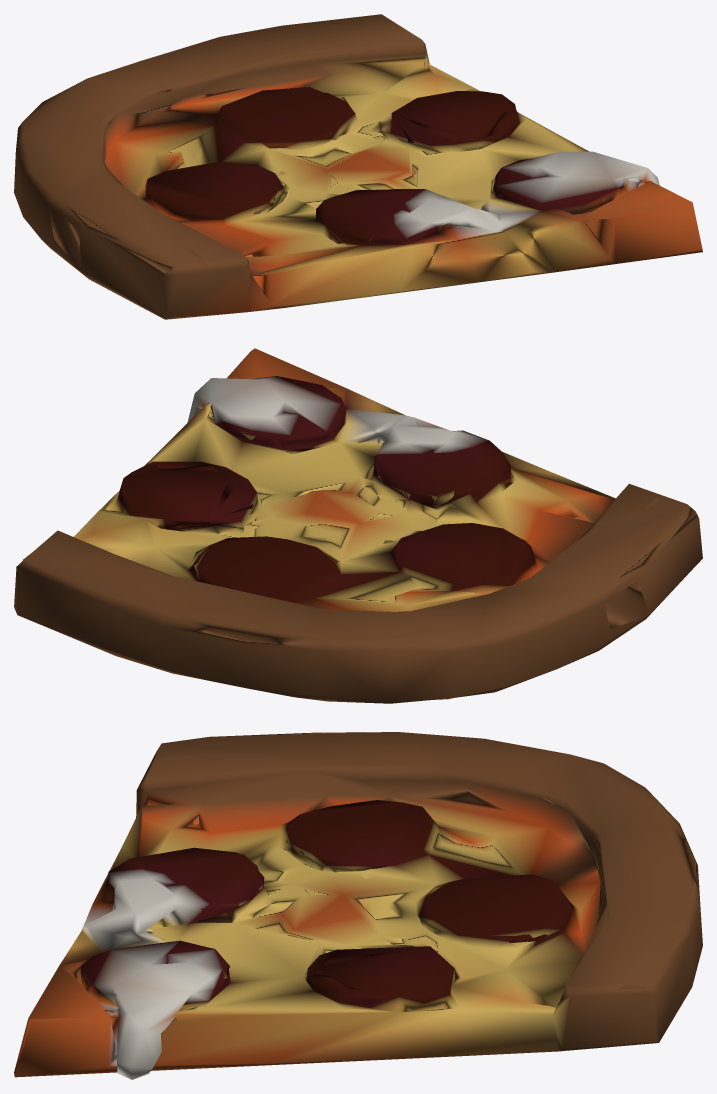
The model's file is gen3d-pizza-slice-lod1.glb.
The picture shows the model from 3 angles, top to bottom: view 1: azimuth 30°, elevation 25°; view 2: azimuth 150°, elevation 25°; view 3: azimuth 270°, elevation 25°; orthographic projection. The views are drawn at different scales.
Parts seen in each view (by area): view 1: part_0; view 2: part_0; view 3: part_0.
Part boxes in pixels (x1,y1,x2,y2): part_0: (14,14,702,319); part_0: (14,348,702,703); part_0: (14,732,702,1079).
Size of the model in its own units: 8.79 by 0.9392 by 8.78.
